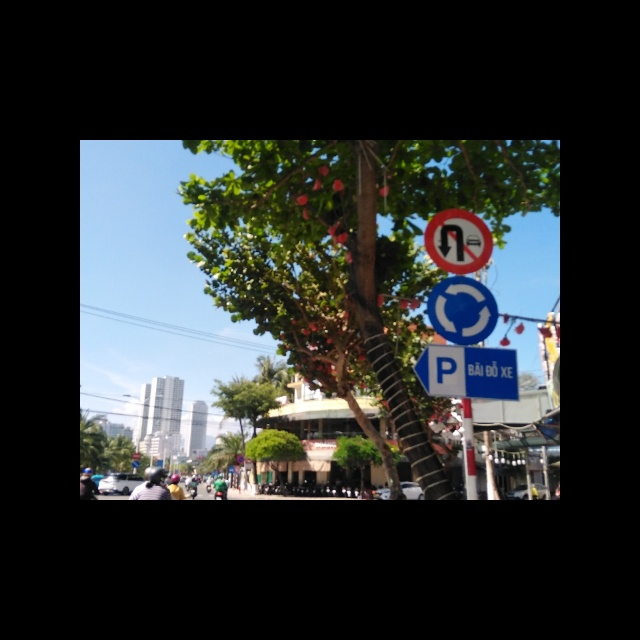Cấm xe ô tô quay đầu: (425, 208, 494, 273)
Nơi giao nhau chạy theo vòng xuyến: (430, 276, 500, 344)
Nơi đỗ xe: (412, 344, 520, 399)
